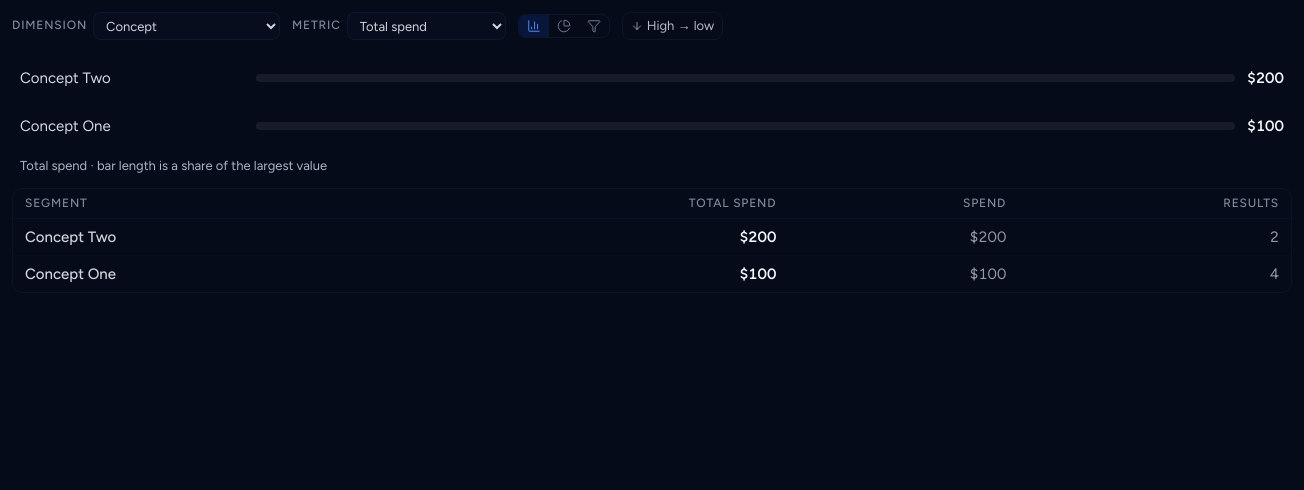
Test: BreakdownExplorer › withholds the donut for ratio metrics with an honest note, keeps it for additive ones
Select "Total spend" in the dropdown labelled "Metric" at [426, 26], box [347, 12, 506, 40]
Click the button named "Donut (share)" at [564, 26], box [549, 15, 579, 37]
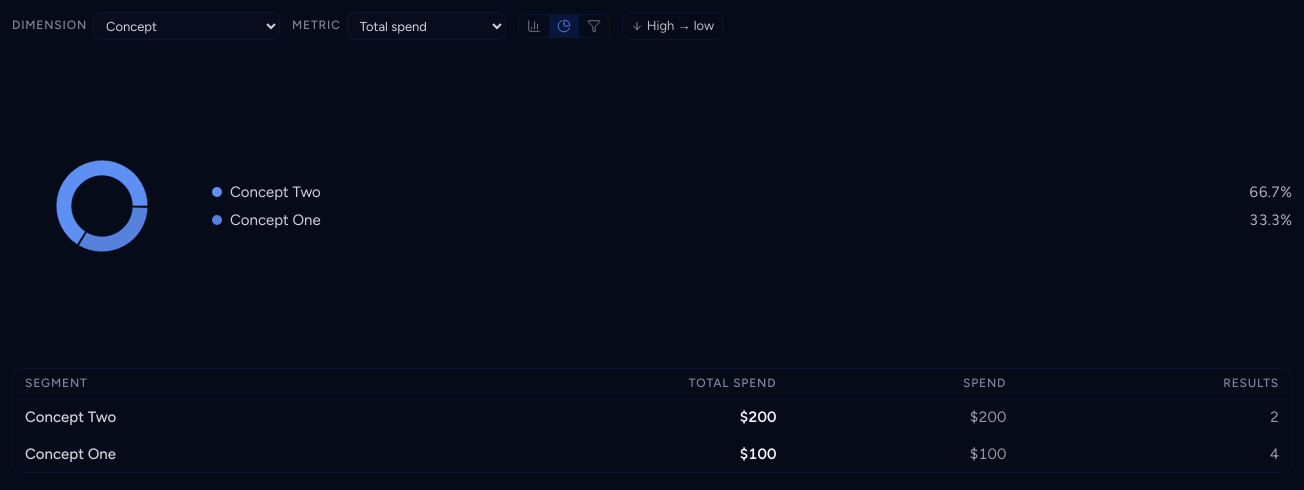
Expected: the list with test id "breakdown-donut-legend" is shown, [212, 180, 1292, 232]
// Ratio metric → donut withheld, table still there.
Select "Link CTR" in the dropdown labelled "Metric" at [426, 26], box [347, 12, 506, 40]
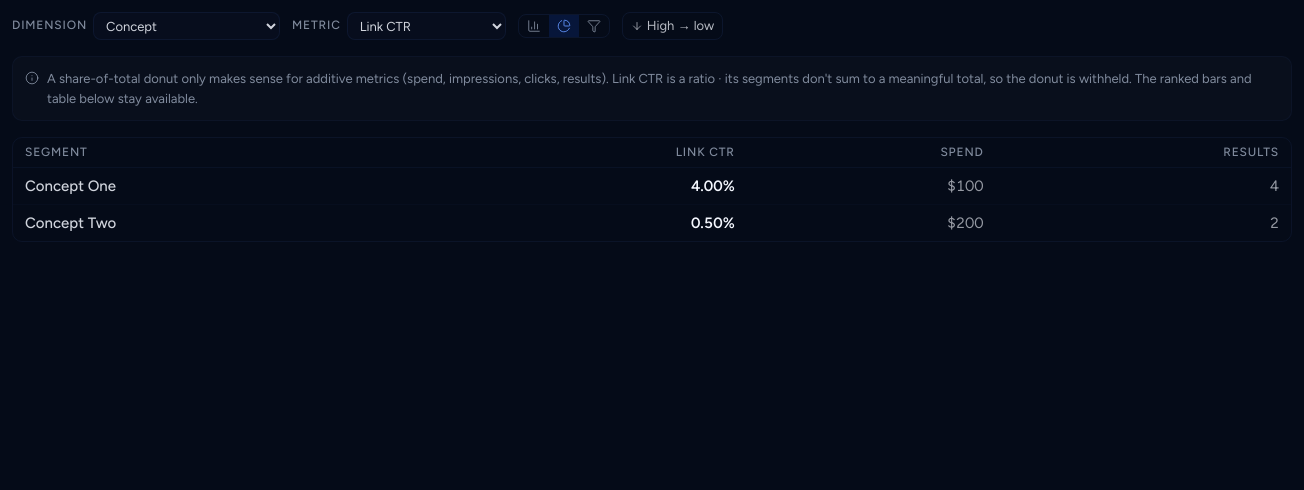
Expected: the element with test id "breakdown-table" is shown, [12, 137, 1292, 242]
Expected: the element with test id "breakdown-donut-blocked" is shown, [12, 56, 1292, 121]
Expected: the list with test id "breakdown-donut-legend" is gone
